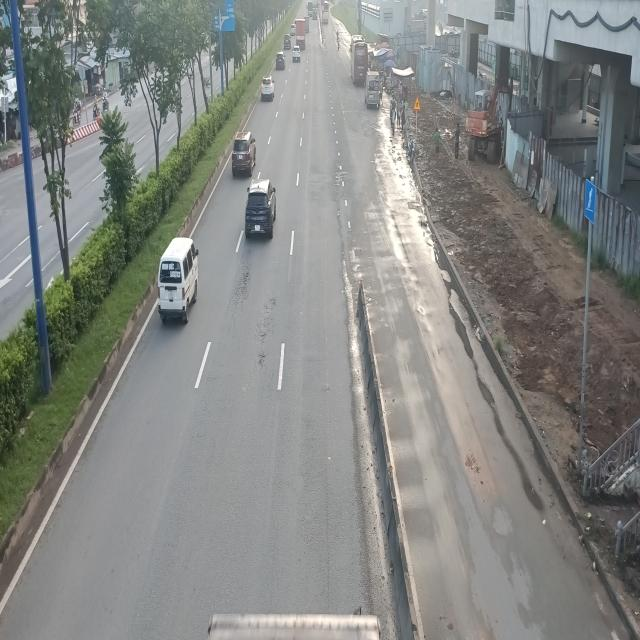car: (246, 180, 278, 238), (232, 132, 258, 175), (262, 77, 276, 102)
coach: (351, 34, 368, 87)
van: (160, 238, 202, 323), (365, 72, 381, 107)
